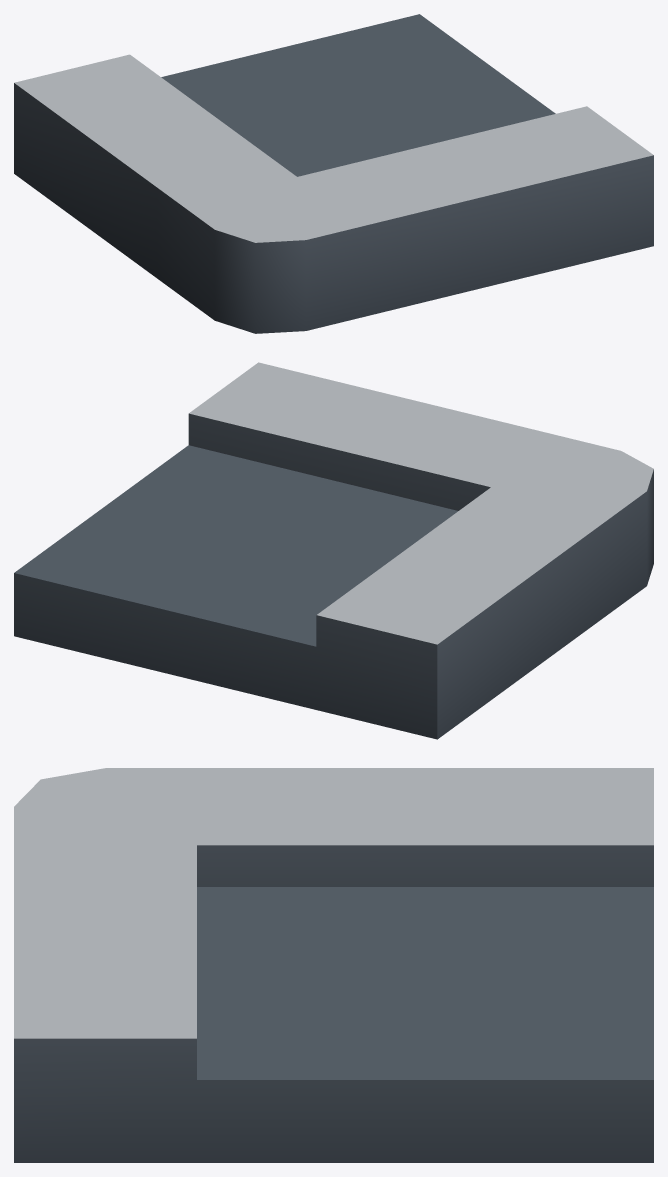
File: balcony-floor-corner.glb
3 views of the same model, one above another, from view 1: azimuth 30°, elevation 25°; view 2: azimuth 150°, elevation 25°; view 3: azimuth 270°, elevation 25° (orthographic). The views are drawn at different scales.
Visible parts, largest first — view 1: balcony-floor-corner; view 2: balcony-floor-corner; view 3: balcony-floor-corner.
Boxes of the visible parts, x1,y1,x2,y2 form: balcony-floor-corner: [14, 14, 653, 333]; balcony-floor-corner: [14, 362, 653, 739]; balcony-floor-corner: [14, 768, 653, 1162].
Size of the model in its own units: 0.7 by 0.15 by 0.7.
